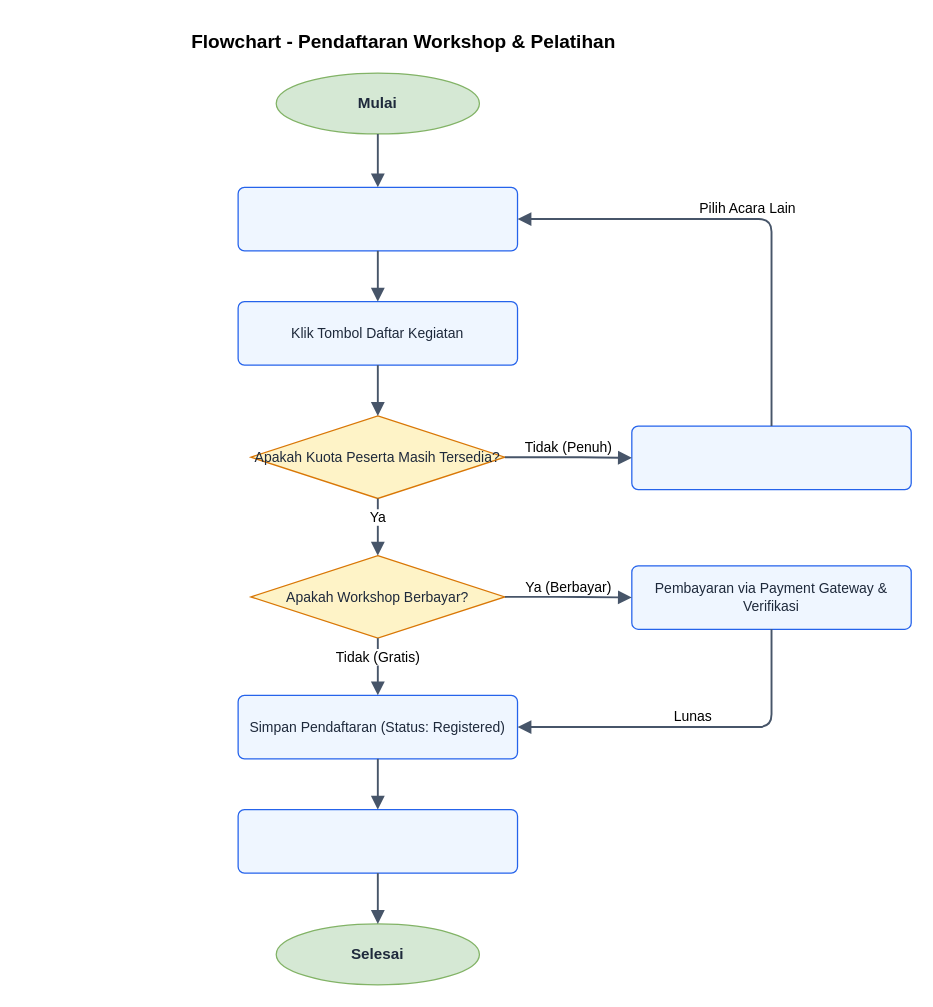
This 933x1007 diagram has some shape labels left out. Each missing label, with the centre of its shape:
"Pilih Acara Workshop dari Daftar Kegiatan" belongs at [377,218].
"Tampilkan Notifikasi Kuota Penuh" belongs at [771,457].
"Terbitkan Tiket Digital & Pengingat Jadwal" belongs at [377,840].
